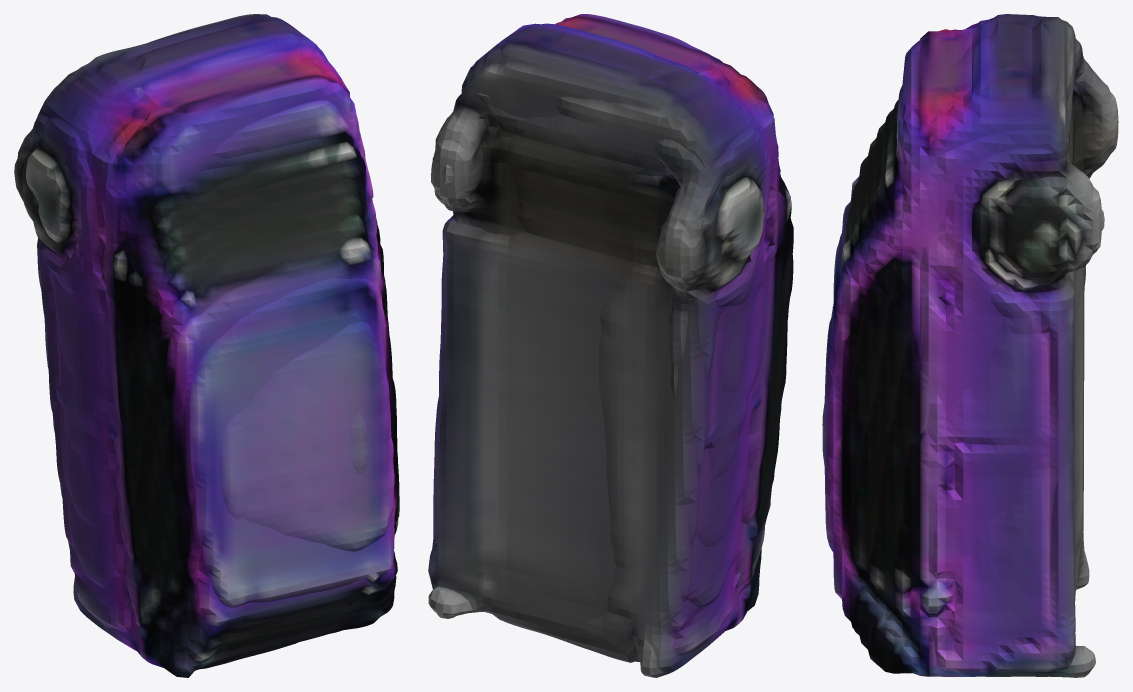
3 views of the same model, side by side, from view 1: azimuth 30°, elevation 25°; view 2: azimuth 150°, elevation 25°; view 3: azimuth 270°, elevation 25° (orthographic). The views are drawn at different scales.
Parts seen in each view (by area): view 1: world; view 2: world; view 3: world.
Boxes of the visible parts, box(x1,y1,x2,y2) form: world: box(14, 14, 399, 677); world: box(428, 14, 793, 677); world: box(822, 14, 1118, 677).
Size of the model in its own units: 0.5474 by 1.02 by 0.4685.
